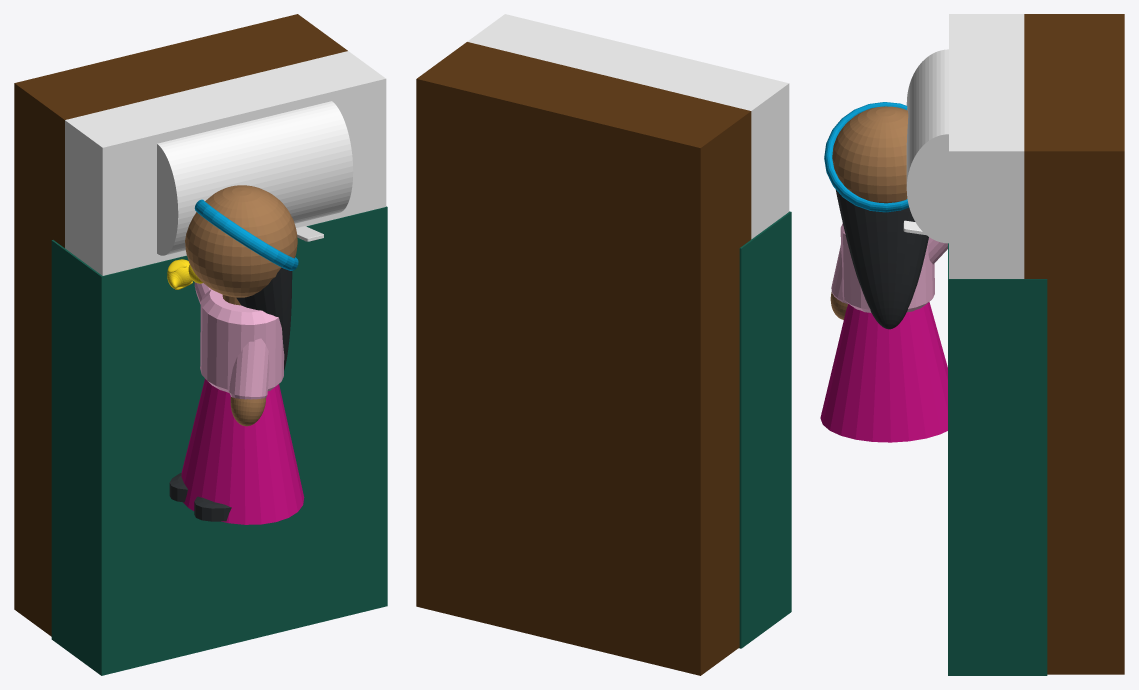
The model's file is tinker.obj.
3 renders of one model, left to right at view 1: azimuth 30°, elevation 25°; view 2: azimuth 150°, elevation 25°; view 3: azimuth 270°, elevation 25°, orthographic.
Visible parts, largest first — view 1: obj_0, obj_1, obj_2; view 2: obj_0; view 3: obj_0, obj_1.
Part boxes in pixels (x1,y1,x2,y2): obj_0: (14, 14, 387, 675); obj_1: (169, 185, 304, 524); obj_2: (167, 259, 202, 289); obj_0: (416, 14, 791, 675); obj_0: (906, 14, 1124, 675); obj_1: (820, 102, 947, 442).
Size of the model in its own units: 32.7 by 57.6 by 30.3.
